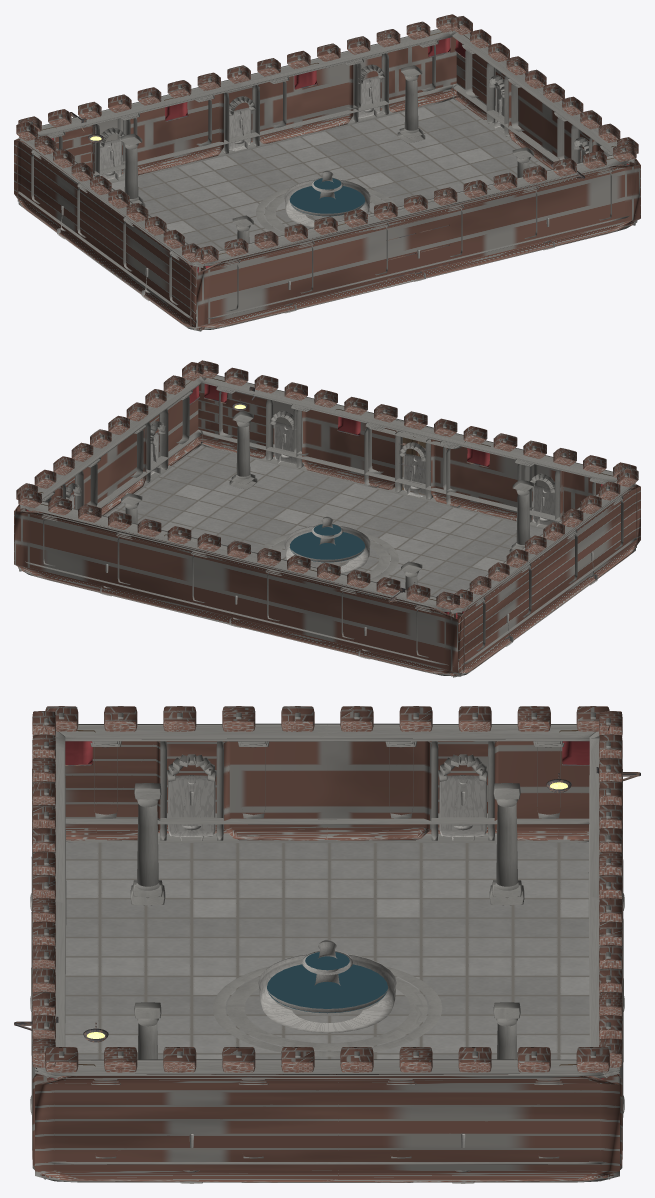
The model's file is assault_courtyard.glb.
3 renders of one model, top to bottom at view 1: azimuth 30°, elevation 25°; view 2: azimuth 150°, elevation 25°; view 3: azimuth 270°, elevation 25°, orthographic. The views are drawn at different scales.
Visible parts, largest first — view 1: courtyard/Brick, courtyard/Stone, courtyard/Paving, courtyard/Marble, courtyard/Water, courtyard/Cloth, courtyard/Iron; view 2: courtyard/Brick, courtyard/Stone, courtyard/Paving, courtyard/Marble, courtyard/Water, courtyard/Cloth; view 3: courtyard/Brick, courtyard/Paving, courtyard/Stone, courtyard/Marble, courtyard/Water, courtyard/Cloth, courtyard/Iron.
Part boxes in pixels (x1,y1,x2,y2): courtyard/Brick: (14,14,640,329); courtyard/Stone: (17,19,637,331); courtyard/Paving: (111,98,549,250); courtyard/Marble: (57,76,585,313); courtyard/Water: (289,178,365,216); courtyard/Cloth: (51,37,628,272); courtyard/Iron: (70,50,584,279); courtyard/Brick: (14,360,640,675); courtyard/Stone: (18,365,636,677); courtyard/Paving: (106,444,543,596); courtyard/Marble: (69,422,597,659); courtyard/Water: (289,524,365,562); courtyard/Cloth: (27,384,603,618); courtyard/Brick: (32,706,622,1182); courtyard/Paving: (65,842,589,1059); courtyard/Stone: (31,712,623,1182); courtyard/Marble: (30,775,624,1183); courtyard/Water: (267,952,387,1013); courtyard/Cloth: (51,741,603,1079); courtyard/Iron: (14,763,640,1042).
Bounding box in the file's own units: 20.89 × 3.53 × 15.71.
9 materials, 8 textured.
